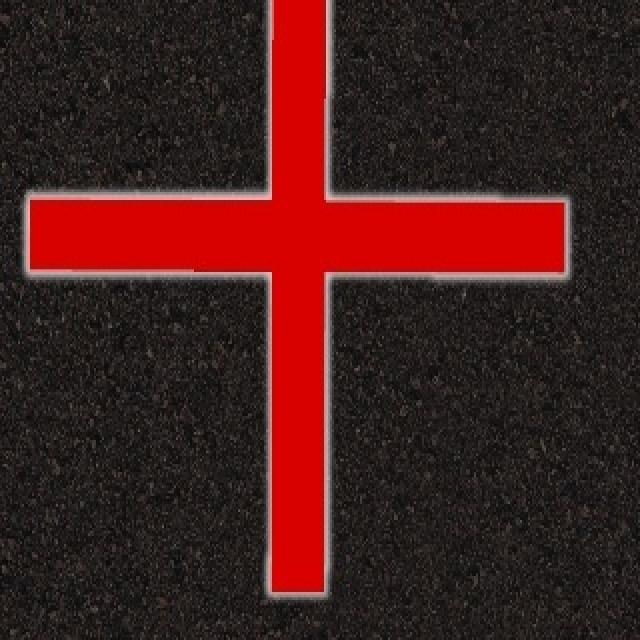x_marker: (27, 0, 565, 592)
